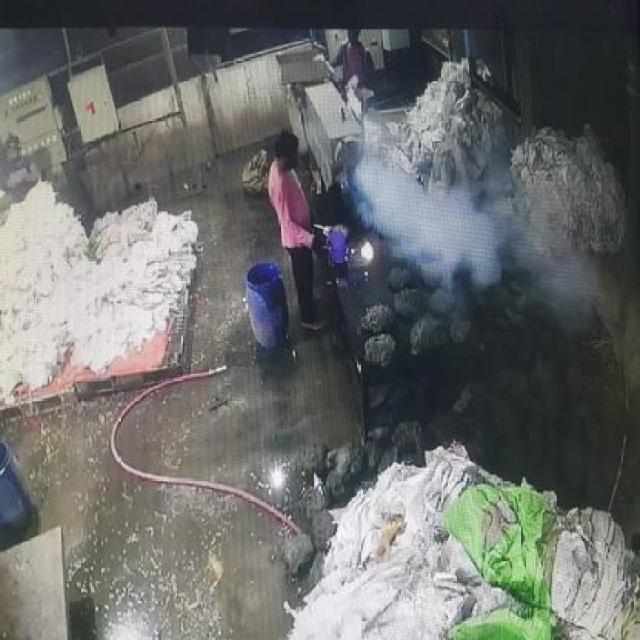fire: (352, 148, 506, 289)
